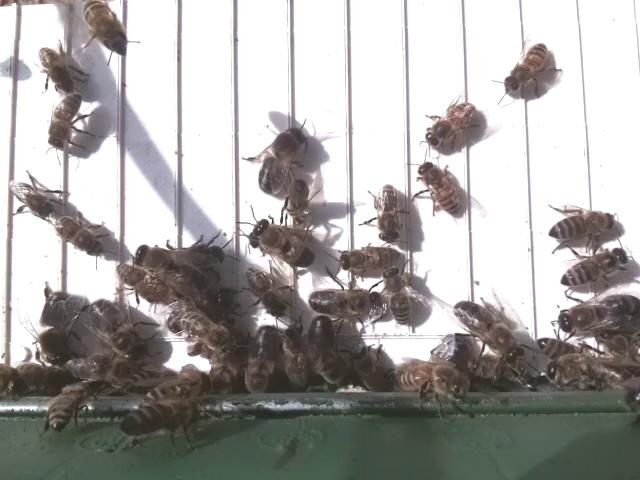Drone: (450, 298, 528, 367), (85, 296, 153, 363), (553, 291, 640, 337), (250, 216, 320, 271), (255, 124, 304, 197), (37, 286, 77, 369), (307, 285, 384, 323)
Worker: (80, 0, 131, 58), (558, 247, 628, 289), (500, 41, 552, 94), (423, 100, 477, 149), (44, 90, 86, 153), (243, 267, 292, 321), (418, 162, 463, 219), (52, 214, 106, 261), (542, 210, 618, 243), (35, 43, 78, 94), (336, 243, 404, 274), (10, 175, 57, 219), (374, 179, 404, 246), (383, 268, 417, 327)
